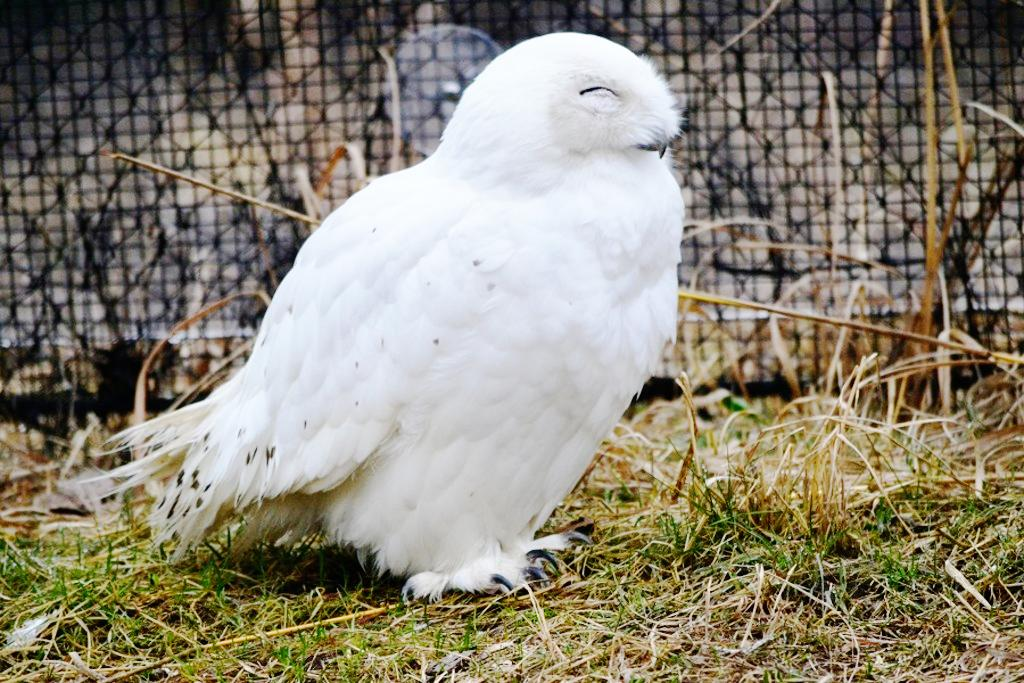Owl: (83, 29, 691, 606)
